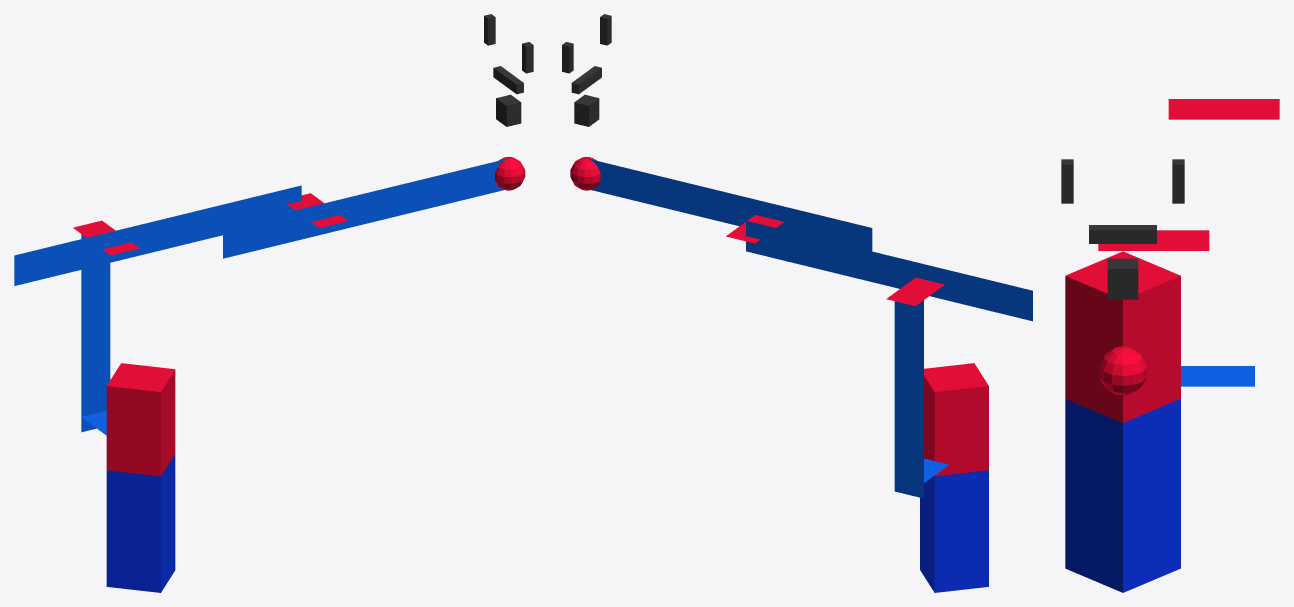
Rendered from 005pentaxis.rounded.dae.
The picture shows the model from 3 angles, left to right: view 1: azimuth 30°, elevation 25°; view 2: azimuth 150°, elevation 25°; view 3: azimuth 270°, elevation 25°; orthographic projection. The views are drawn at different scales.
Visible parts, largest first — view 1: link3, link2, base_link, link1, link1_2, link4, eef1; view 2: link2, link3, base_link, link1, link1_2, link4, eef1; view 3: base_link, link1, link2, link4, link3, eef1, eef2, eef_left, eef_right.
Part boxes in pixels (x1,y1,x2,y2): link3: (223,158,507,258); link2: (14,185,301,285); base_link: (106,454,175,592); link1: (81,363,175,476); link1_2: (81,234,110,432); link4: (495,156,525,190); eef1: (496,94,521,126); link2: (746,221,1032,321); link3: (587,158,872,251); base_link: (920,470,988,592); link1: (924,363,988,482); link1_2: (894,300,923,498); link4: (570,156,600,190); eef1: (574,94,599,126); base_link: (1065,399,1180,592); link1: (1065,251,1254,422); link2: (1168,99,1279,119); link4: (1099,346,1146,395); link3: (1098,230,1209,250); eef1: (1107,258,1138,299); eef2: (1089,225,1156,243); eef_left: (1061,159,1073,203); eef_right: (1172,159,1184,203).
Size of what is drawn, in the model's own units: 0.6615 by 0.177 by 0.5983.
